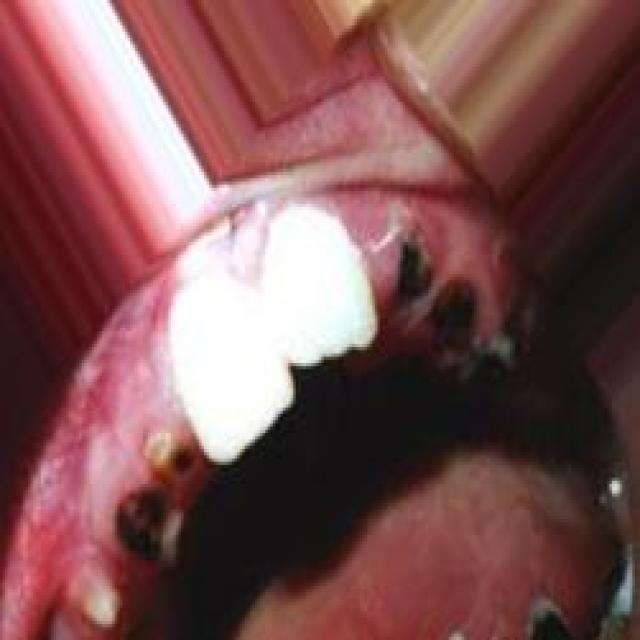caries: (104, 483, 198, 569), (372, 212, 439, 314), (421, 257, 484, 362), (484, 286, 544, 378), (145, 418, 210, 490)
